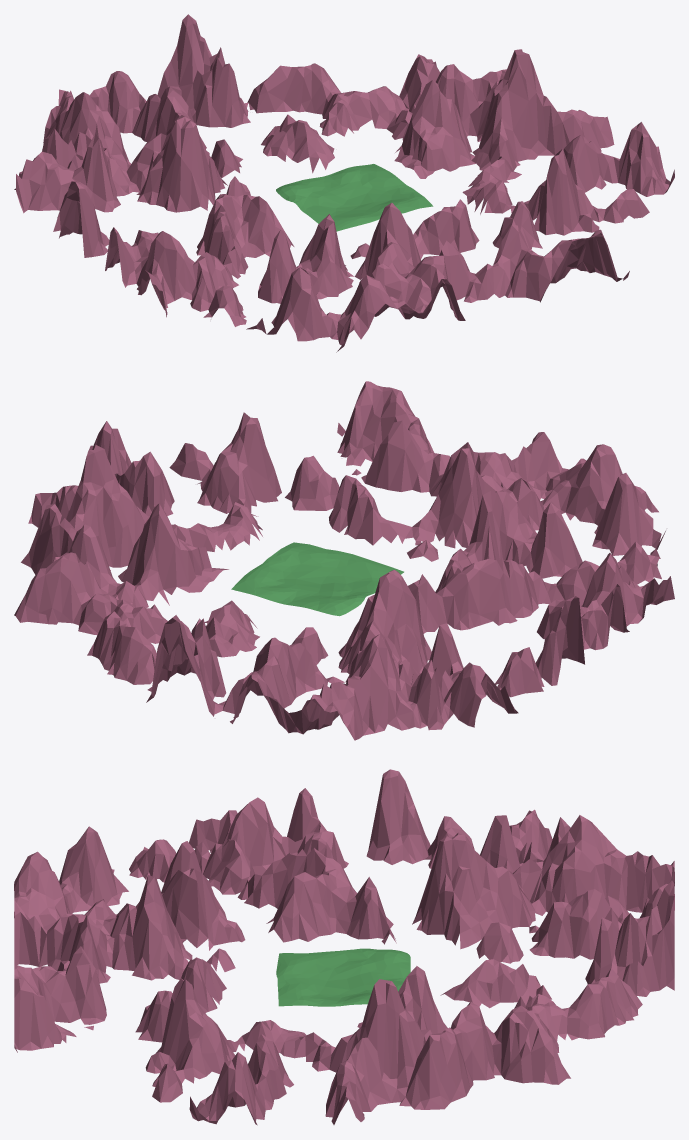
The model's file is terrain.glb.
3 views of the same model, one above another, from view 1: azimuth 30°, elevation 25°; view 2: azimuth 150°, elevation 25°; view 3: azimuth 270°, elevation 25° (orthographic). The views are drawn at different scales.
Visible parts, largest first — view 1: Mountains, Field; view 2: Mountains, Field; view 3: Mountains, Field.
Part boxes in pixels (x1=…): Mountains: x1=14, y1=14, x2=674, y2=352; Field: x1=276, y1=164, x2=433, y2=231; Mountains: x1=14, y1=381, x2=674, y2=740; Field: x1=231, y1=542, x2=403, y2=616; Mountains: x1=14, y1=769, x2=674, y2=1125; Field: x1=276, y1=948, x2=410, y2=1006.
Bounding box in the file's own units: 506 × 93.92 × 506.
